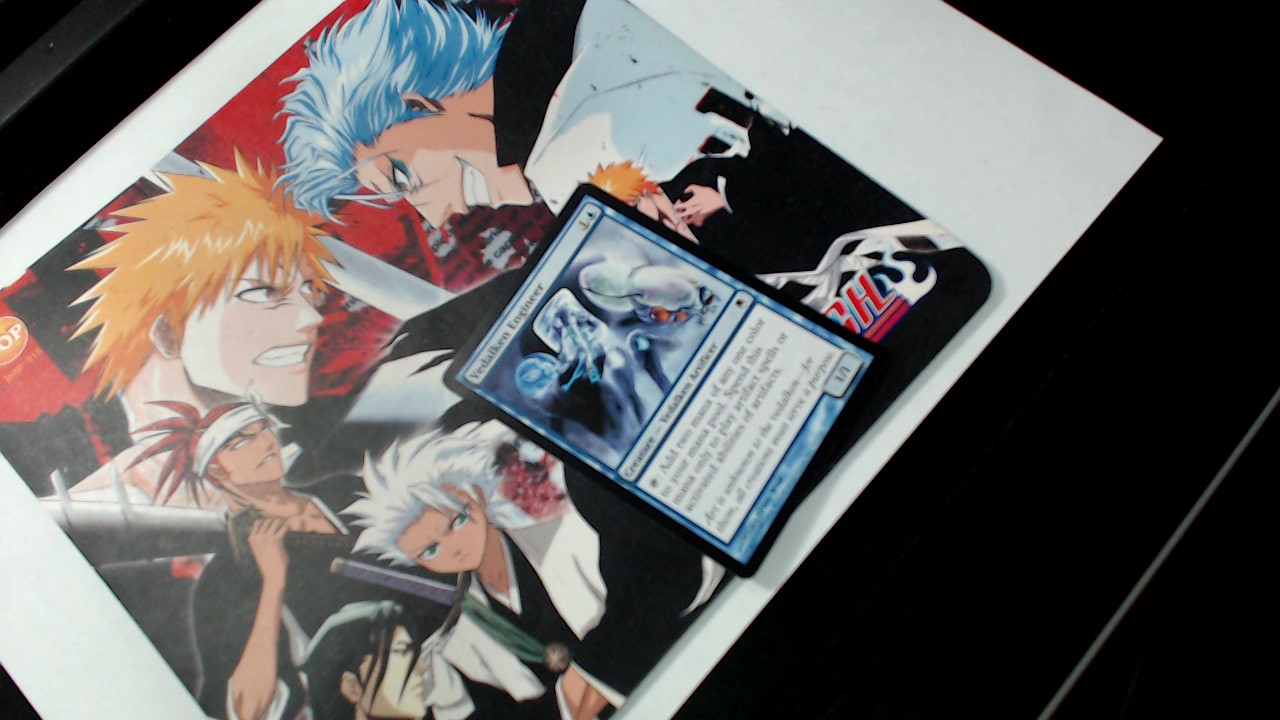MTG Card: (439, 177, 887, 588)
